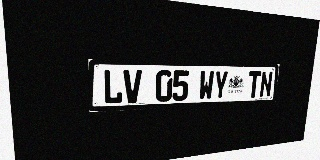0: (155, 70, 173, 102)
5: (172, 70, 189, 101)
L: (103, 70, 123, 104)
N: (259, 71, 273, 97)
T: (247, 71, 261, 98)
V: (123, 70, 142, 104)
W: (198, 71, 214, 100)
Y: (213, 71, 228, 100)
